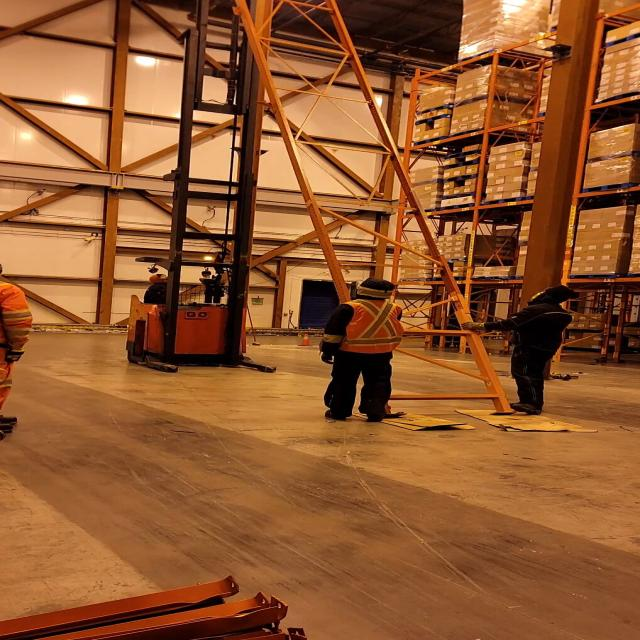forklift: (123, 170, 280, 375)
human: (457, 283, 574, 419), (314, 271, 410, 427), (0, 253, 33, 446), (140, 270, 202, 305)
objectofinterest: (224, 1, 522, 420), (449, 402, 602, 436), (344, 403, 481, 432)
